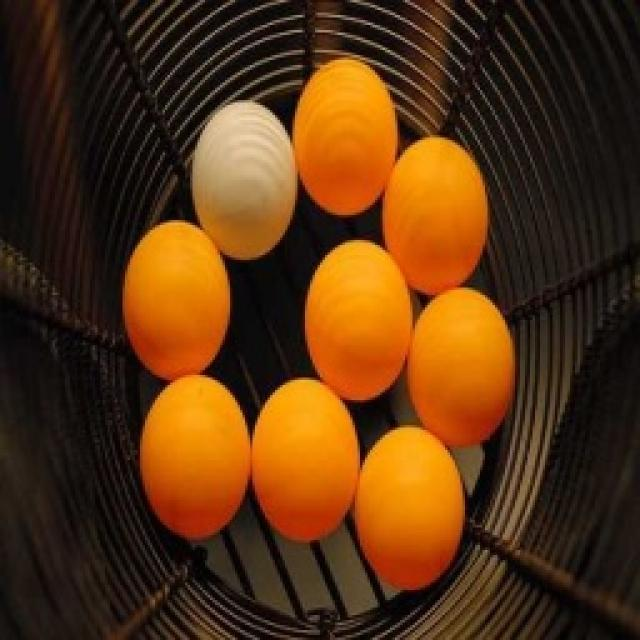oball: (186, 102, 301, 266), (140, 375, 252, 540), (252, 374, 356, 544), (358, 427, 466, 590), (408, 286, 514, 446), (308, 242, 414, 401), (122, 226, 232, 374), (294, 57, 398, 212), (384, 138, 486, 294)
